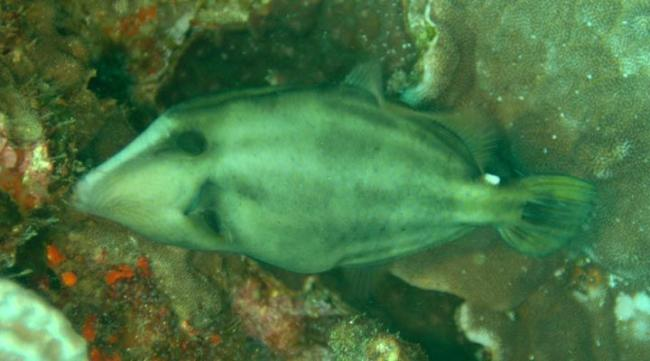fish: (70, 64, 595, 272)
